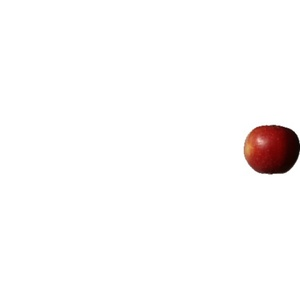maçã braeburn: (247, 120, 297, 180)
